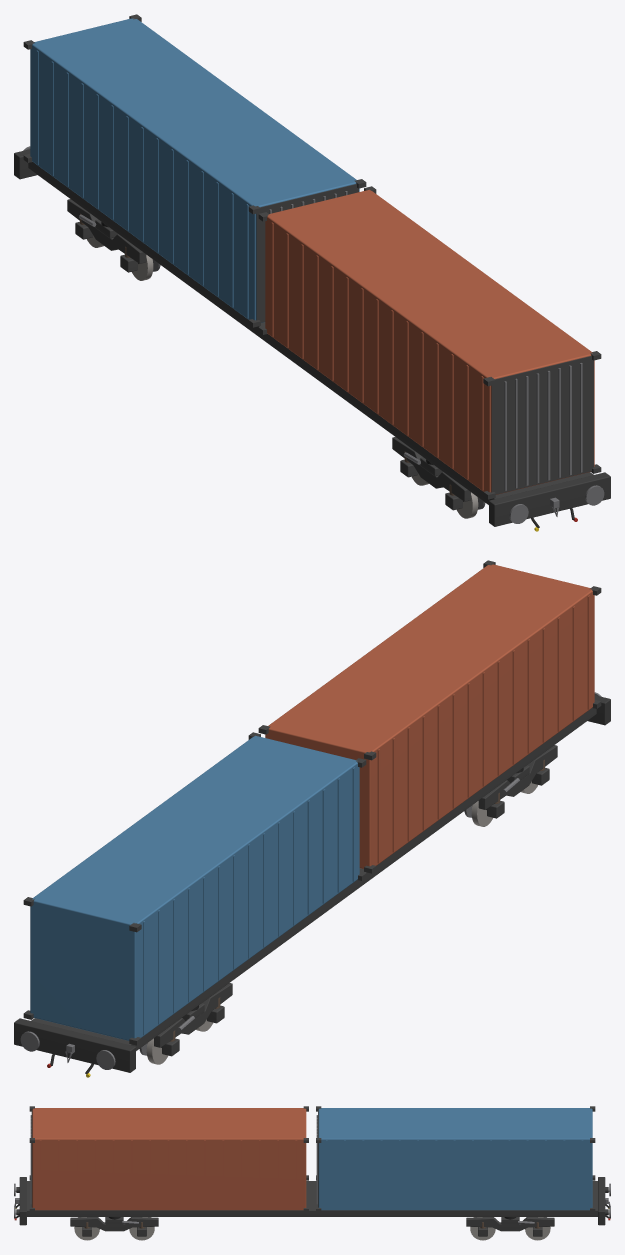
Rendered from train_wagon_box.glb.
3 renders of one model, top to bottom at view 1: azimuth 30°, elevation 25°; view 2: azimuth 150°, elevation 25°; view 3: azimuth 270°, elevation 25°, orthographic. The views are drawn at different scales.
Parts seen in each view (by area): view 1: SM_train_wagon_box; view 2: SM_train_wagon_box; view 3: SM_train_wagon_box.
Part boxes in pixels (<box>): SM_train_wagon_box: <box>14,14,610,531</box>; SM_train_wagon_box: <box>14,560,610,1077</box>; SM_train_wagon_box: <box>14,1106,610,1240</box>.
Size of the model in its own units: 2.7 by 3.87 by 19.61.
